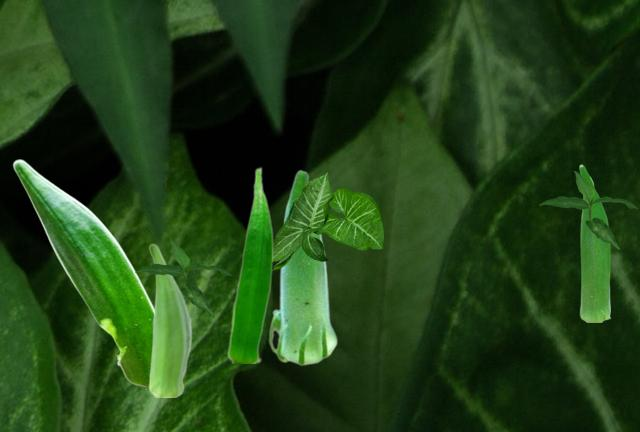okra: (12, 159, 153, 385), (268, 169, 337, 365), (227, 166, 273, 362), (148, 243, 191, 396), (579, 164, 609, 321)
